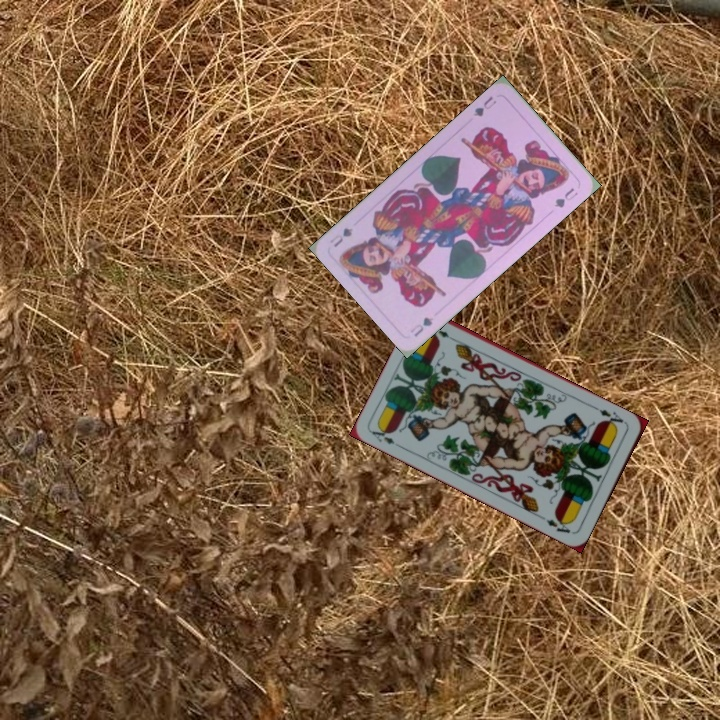EA: (368, 422, 405, 451), (591, 403, 629, 430)
GU: (469, 92, 499, 120), (406, 313, 436, 340)
